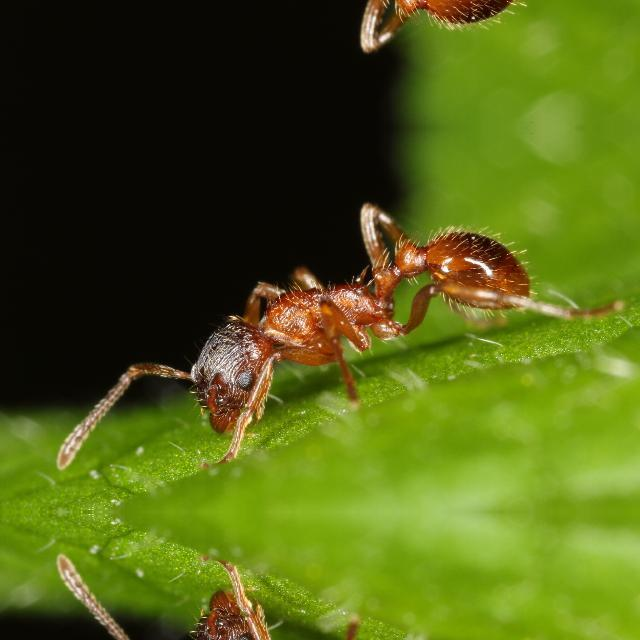Myrmica: (128, 191, 544, 465), (126, 556, 544, 640), (126, 0, 543, 62)
